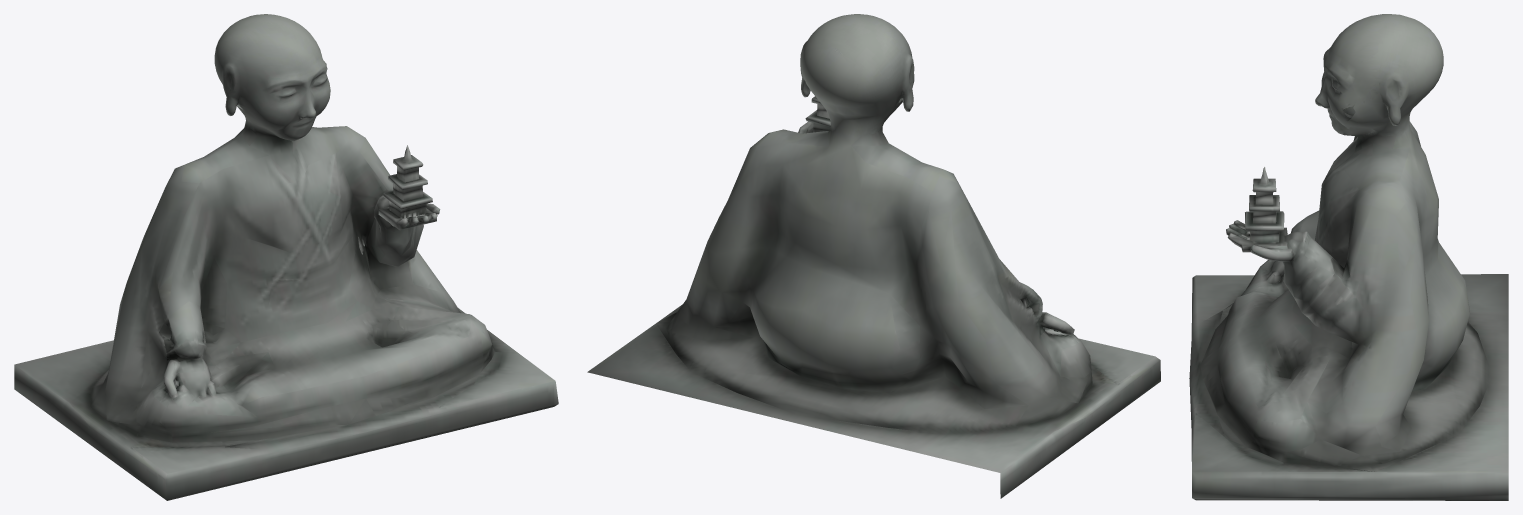
Rendered from arhat_thap.glb.
The picture shows the model from 3 angles, left to right: view 1: azimuth 30°, elevation 25°; view 2: azimuth 150°, elevation 25°; view 3: azimuth 270°, elevation 25°; orthographic projection. The views are drawn at different scales.
Visible parts, largest first — view 1: arhat_thap; view 2: arhat_thap; view 3: arhat_thap.
Part boxes in pixels (x1=…): arhat_thap: x1=14, y1=14, x2=558, y2=500; arhat_thap: x1=587, y1=14, x2=1160, y2=498; arhat_thap: x1=1189, y1=14, x2=1508, y2=500.
Size of the model in its own units: 1.21 by 1.07 by 0.8094.
1 material, 1 textured.
